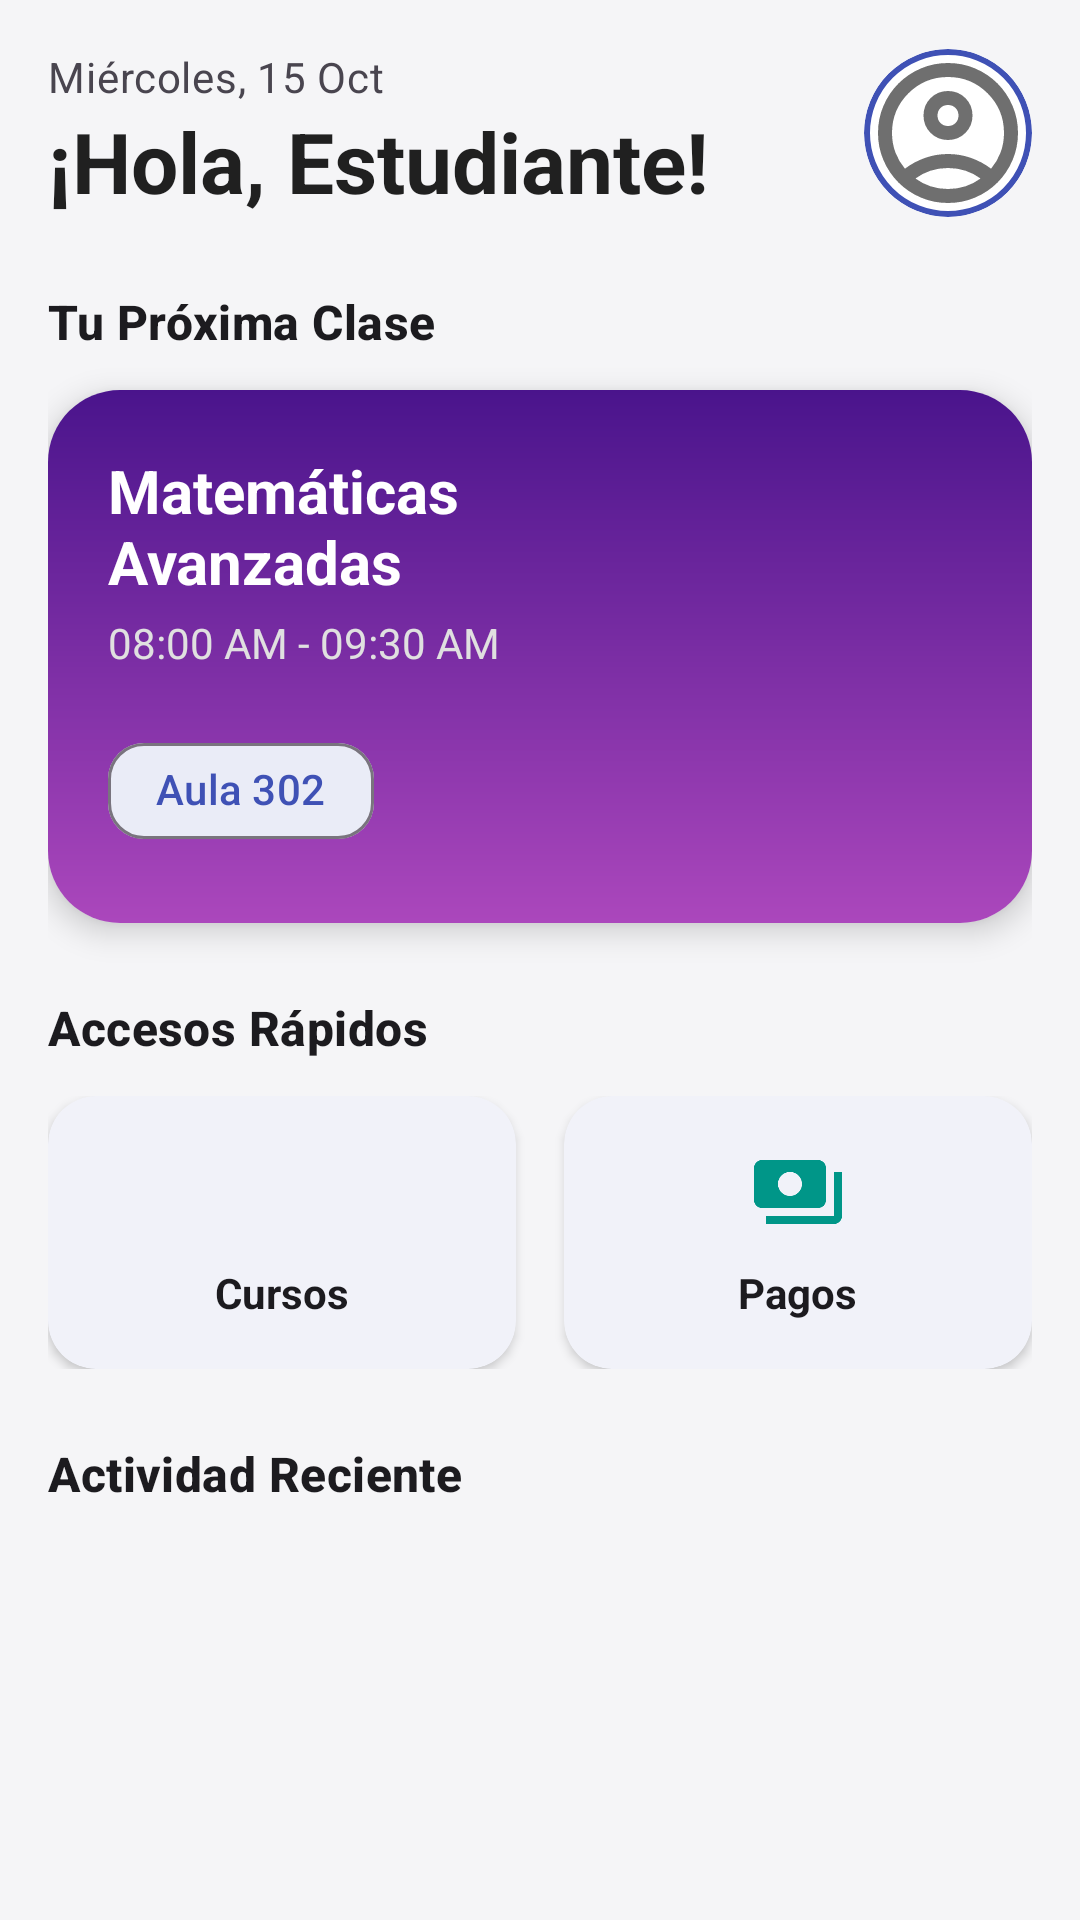

Named icons in this screenshot (1080×1920) and their bounding boxes, (x1, y1, x2, y2):
account circle: (864, 49, 1032, 217)
payments: (754, 1160, 842, 1224)
